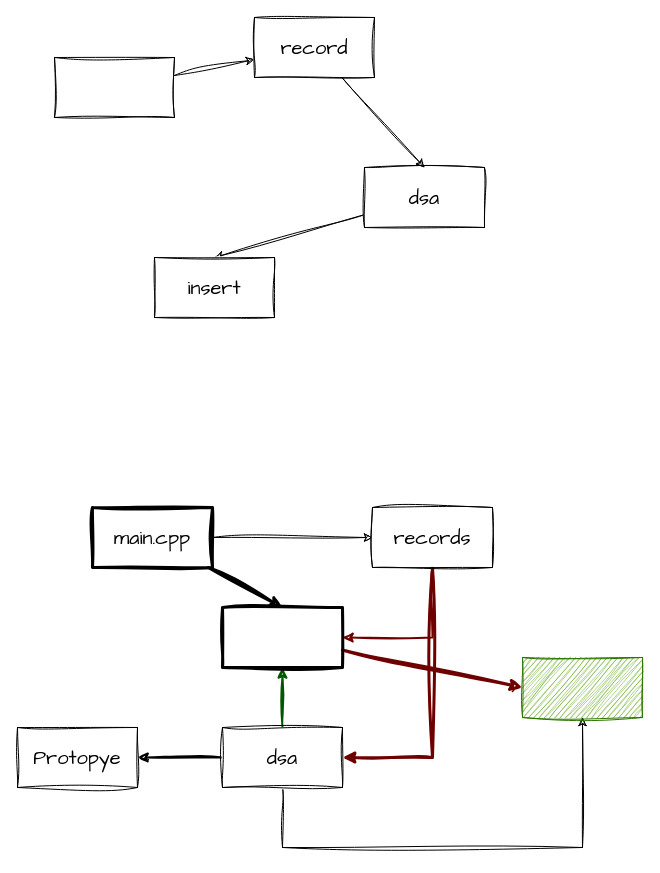
Some shapes in this 660 by 873 pixel diagram are drawn without their labels. Each missing label, with the centre of its shape:
insert Array: pixel 582 687
stdrec: pixel 114 87
studclass.h: pixel 282 637
